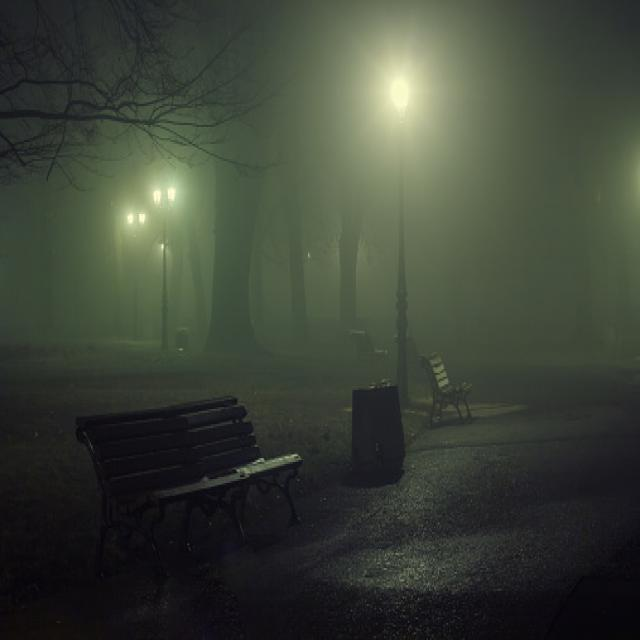chair: (62, 368, 311, 607), (421, 351, 492, 450)
